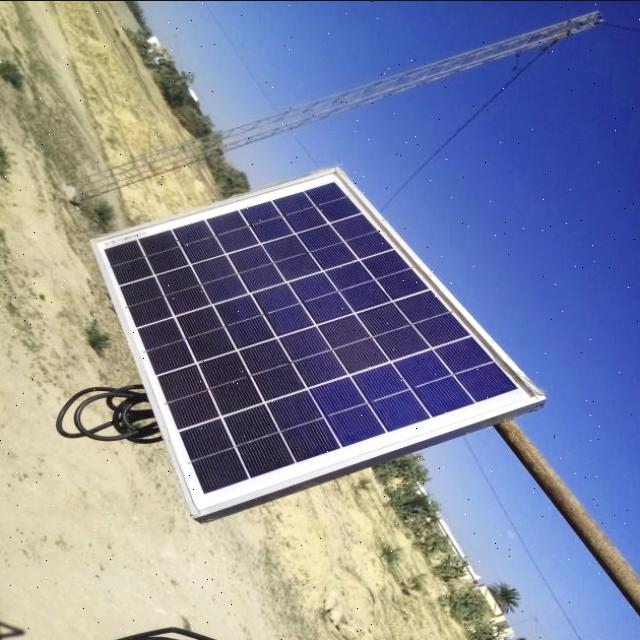Normal Solar Panel: (92, 166, 538, 518)
